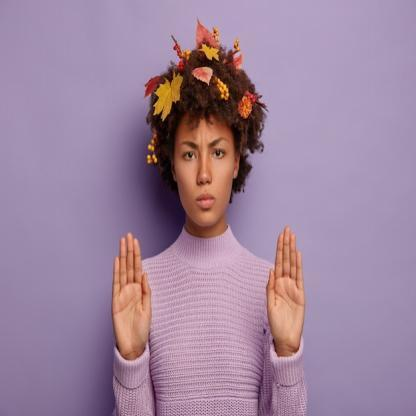stop: (108, 228, 157, 358), (262, 220, 308, 356)
